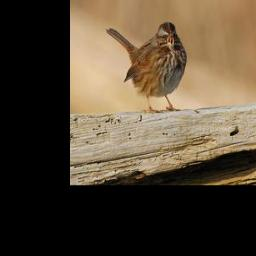Sparrow: (103, 21, 186, 113)
